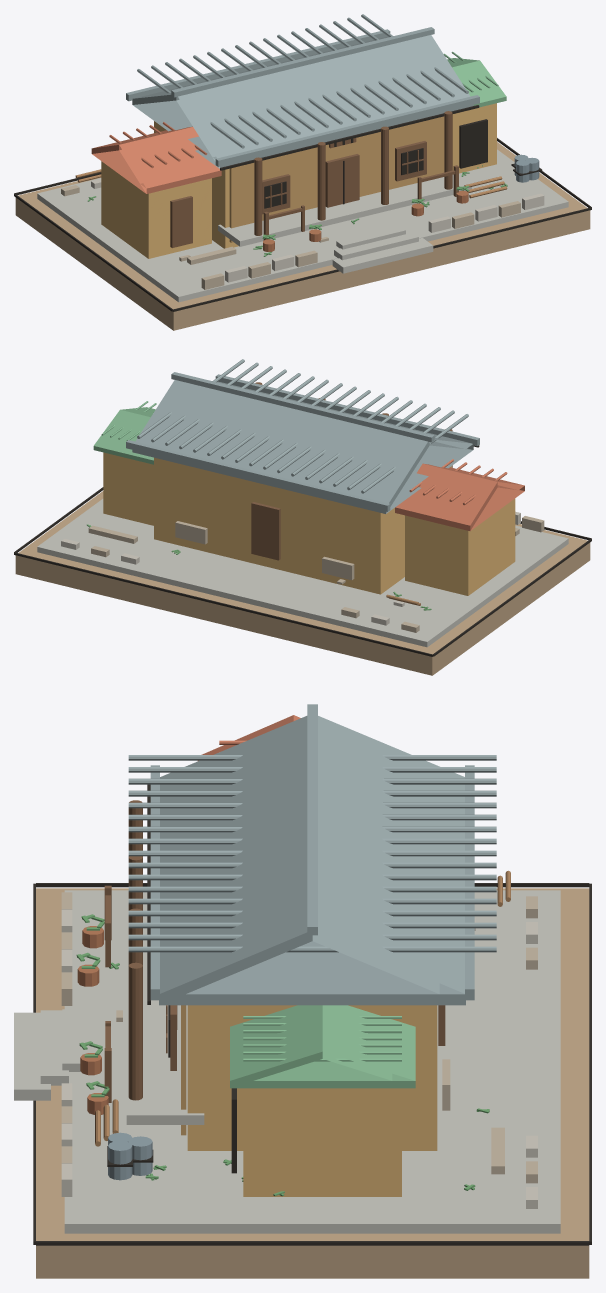
The model's file is VietnameseRuralHouse_PreFlood_A.fbx.
3 renders of one model, top to bottom at view 1: azimuth 30°, elevation 25°; view 2: azimuth 150°, elevation 25°; view 3: azimuth 270°, elevation 25°, orthographic. The views are drawn at different scales.
Parts seen in each view (by area): view 1: large_grey_am_duong_tiled_roof_main, flood_prevention_concrete_plinth_top, raised_textured_diorama_earth_base_12x8, recessed_front_porch_shadow_band, left_attached_smaller_structure_ochre_wall, left_attached_red_tile_roof_profile, front_recessed_porch_concrete_floor, front_grey_roof_eave_line, main_roof_ridge_cap, large_central_double_wooden_door_front, back_grey_roof_eave_line, right_attached_green_corrugated_shed_wall (+18 smaller); view 2: flood_prevention_concrete_plinth_top, large_grey_am_duong_tiled_roof_main, main_CAP4_ochre_plaster_body_three_part, raised_textured_diorama_earth_base_12x8, left_attached_smaller_structure_ochre_wall, left_attached_red_tile_roof_profile, right_attached_green_corrugated_shed_wall, back_grey_roof_eave_line, main_roof_ridge_cap, right_attached_green_corrugated_metal_roof, front_grey_roof_eave_line, rear_single_wooden_door_center (+4 smaller); view 3: flood_prevention_concrete_plinth_top, large_grey_am_duong_tiled_roof_main, raised_textured_diorama_earth_base_12x8, right_attached_green_corrugated_shed_wall, right_attached_green_corrugated_metal_roof, main_CAP4_ochre_plaster_body_three_part, front_recessed_porch_concrete_floor, black_line_right_base_edge, wide_front_concrete_step_low, main_roof_ridge_cap, dark_wood_round_front_porch_column_4, wide_front_concrete_step_mid (+38 smaller).
Part boxes in pixels (x1,y1,x2,y2): large_grey_am_duong_tiled_roof_main: (132, 35, 473, 168); flood_prevention_concrete_plinth_top: (37, 149, 568, 302); raised_textured_diorama_earth_base_12x8: (15, 142, 590, 330); recessed_front_porch_shadow_band: (229, 116, 444, 242); left_attached_smaller_structure_ochre_wall: (101, 161, 211, 258); left_attached_red_tile_roof_profile: (91, 126, 221, 193); front_recessed_porch_concrete_floor: (218, 174, 471, 246); front_grey_roof_eave_line: (215, 95, 479, 166); main_roof_ridge_cap: (171, 27, 434, 97); large_central_double_wooden_door_front: (325, 154, 359, 207); back_grey_roof_eave_line: (126, 29, 390, 101); right_attached_green_corrugated_shed_wall: (452, 103, 496, 173); flood_prevention_concrete_plinth_top: (37, 499, 568, 647); large_grey_am_duong_tiled_roof_main: (132, 380, 473, 513); main_CAP4_ochre_plaster_body_three_part: (154, 457, 451, 594); raised_textured_diorama_earth_base_12x8: (15, 491, 590, 675); left_attached_smaller_structure_ochre_wall: (405, 498, 515, 595); left_attached_red_tile_roof_profile: (395, 463, 524, 530); right_attached_green_corrugated_shed_wall: (103, 452, 153, 525); back_grey_roof_eave_line: (126, 440, 390, 511); main_roof_ridge_cap: (171, 372, 434, 442); right_attached_green_corrugated_metal_roof: (93, 407, 155, 464); front_grey_roof_eave_line: (215, 374, 479, 446); rear_single_wooden_door_center: (251, 502, 280, 560); flood_prevention_concrete_plinth_top: (64, 890, 560, 1233); large_grey_am_duong_tiled_roof_main: (159, 716, 465, 1005); raised_textured_diorama_earth_base_12x8: (36, 888, 589, 1278); right_attached_green_corrugated_shed_wall: (243, 1088, 401, 1196); right_attached_green_corrugated_metal_roof: (230, 1005, 415, 1088); main_CAP4_ochre_plaster_body_three_part: (187, 1005, 437, 1150); front_recessed_porch_concrete_floor: (126, 917, 204, 1124); black_line_right_base_edge: (36, 1241, 589, 1245); wide_front_concrete_step_low: (14, 1012, 50, 1100); main_roof_ridge_cap: (307, 704, 317, 935); dark_wood_round_front_porch_column_4: (128, 962, 142, 1100); wide_front_concrete_step_mid: (40, 1010, 68, 1085).
Bounding box in the file's own units: 1260 × 466 × 857.
